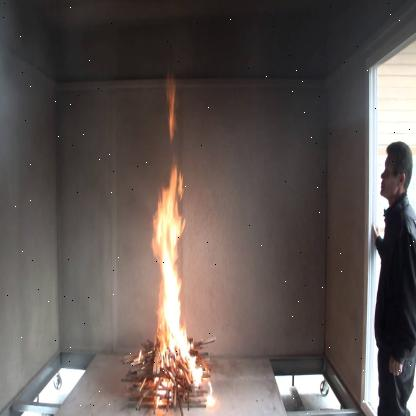fire: (148, 162, 206, 393)
